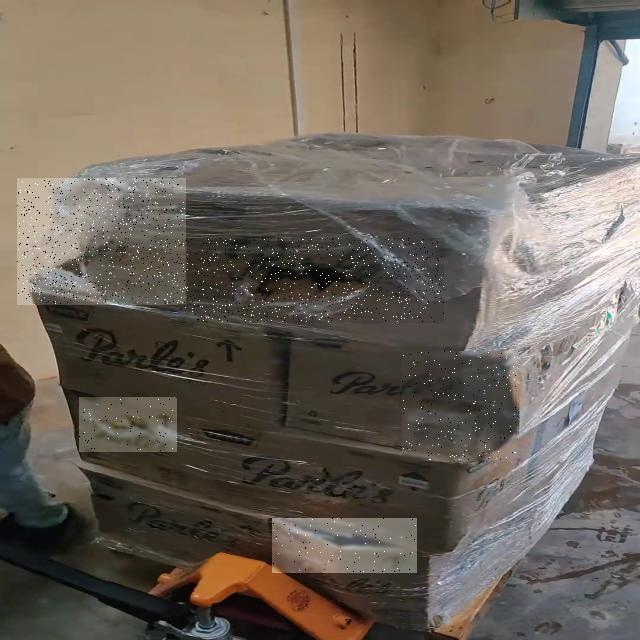leakage: (178, 239, 444, 322)
squeeze: (17, 178, 185, 304), (402, 352, 516, 460)
tear: (273, 519, 417, 572), (80, 398, 175, 451)
